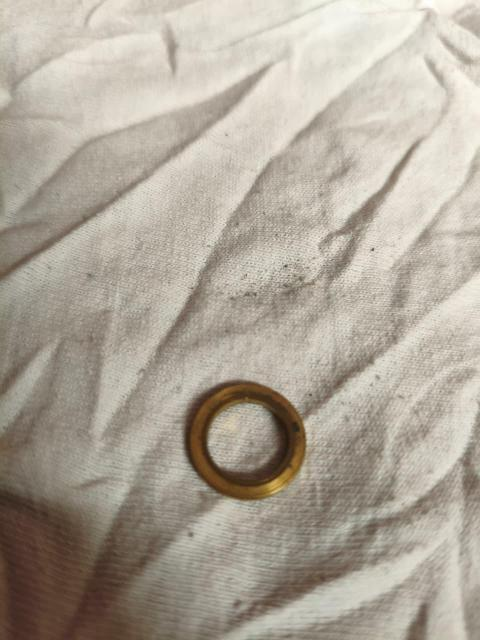Metal: (192, 378, 308, 502)
